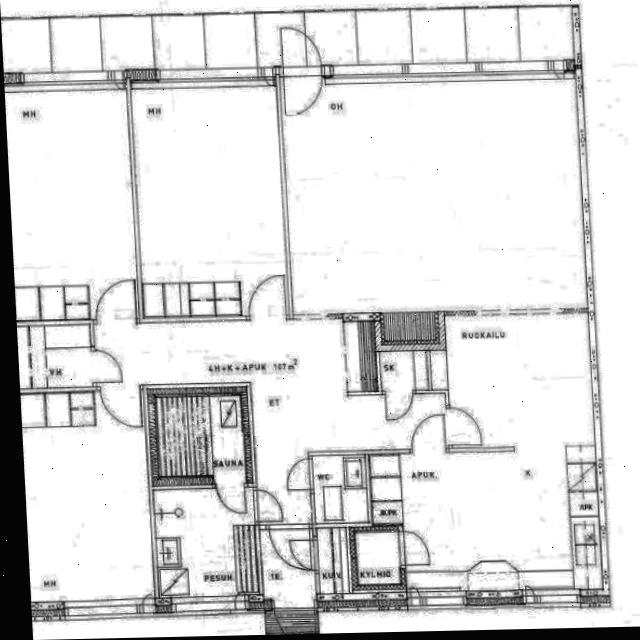room: (131, 76, 287, 322), (4, 80, 137, 324), (18, 385, 157, 607), (154, 486, 258, 598), (154, 391, 246, 488), (260, 528, 316, 601), (312, 455, 368, 524), (379, 350, 429, 390), (274, 601, 315, 608)
